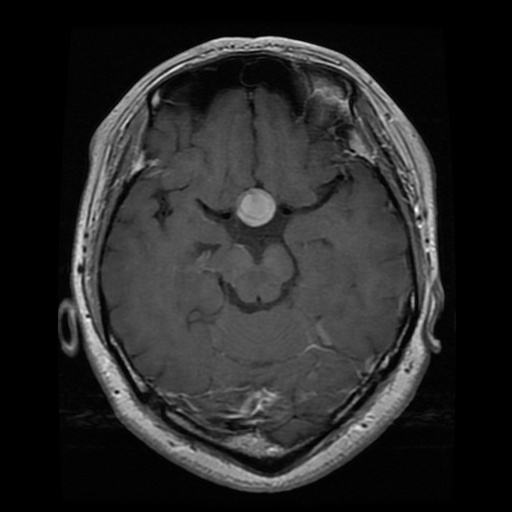pituitary: (237, 187, 277, 227)
